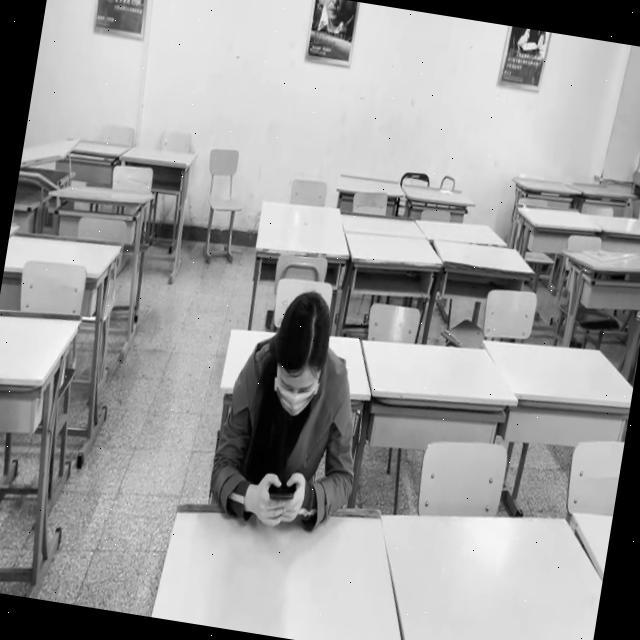phone: (205, 282, 382, 537)
